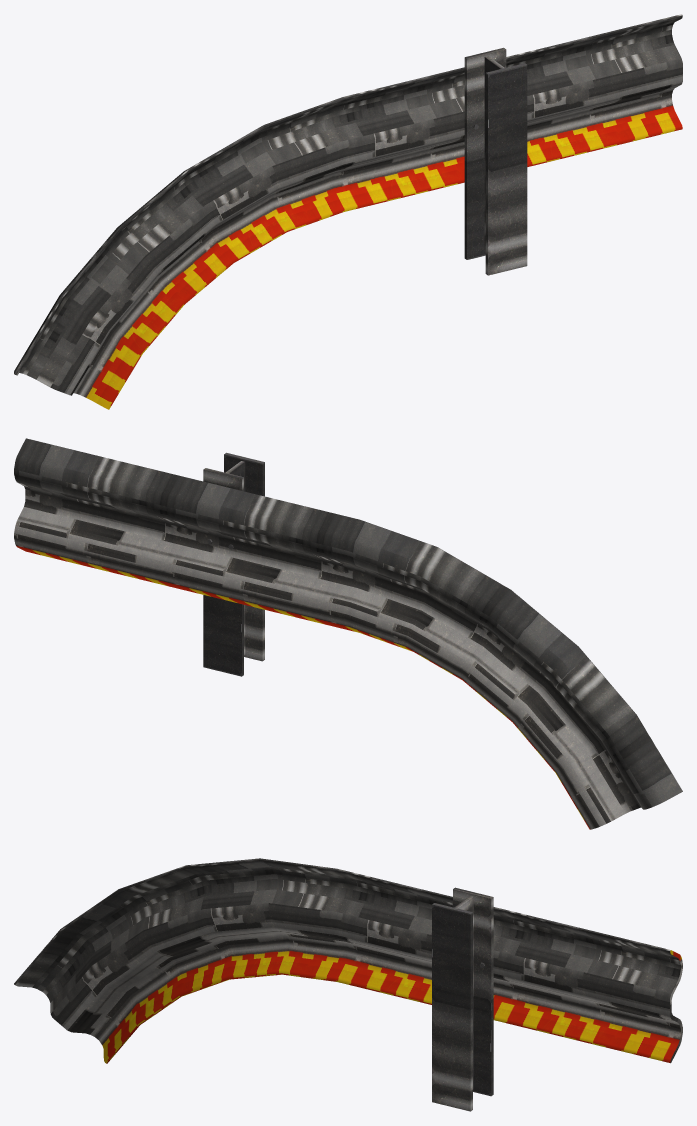
Rendered from Rail 5.FBX.
3 renders of one model, top to bottom at view 1: azimuth 30°, elevation 25°; view 2: azimuth 150°, elevation 25°; view 3: azimuth 330°, elevation 25°, orthographic.
Parts seen in each view (by area): view 1: guardrail_end_right_a; view 2: guardrail_end_right_a; view 3: guardrail_end_right_a.
Boxes of the visible parts, <box> form: guardrail_end_right_a: <box>14,14,682,409</box>; guardrail_end_right_a: <box>14,438,682,829</box>; guardrail_end_right_a: <box>14,858,682,1111</box>.
Bounding box in the file's own units: 350 × 133 × 33.42.
